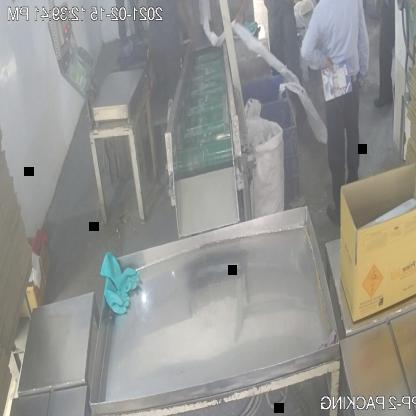glove: (92, 240, 146, 321)
no_glove: (298, 5, 333, 82), (169, 0, 200, 52)
